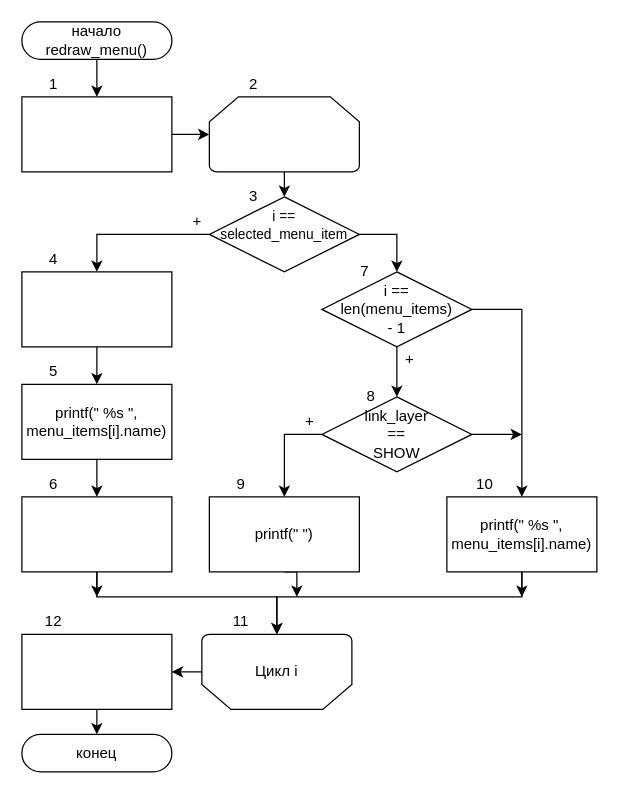
Image size: 619x794. Some labels were removed from this diagram. Here are the shapes that lost their labels. From the top down, the centre of each, then its label:
the point at 96,134: setCursorPosition(0, 0); SetConsoleTextAttribute (stdout_handle, BCKG_BLUE)
the point at 283,134: Цикл i Пока i < len(menu_items) i++
the point at 96,309: SetConsoleTextAttribute (stdout_handle, BCKG_GREEN)
the point at 96,534: SetConsoleTextAttribute (stdout_handle, BCKG_BLUE)
the point at 96,671: SetConsoleTextAttribute (stdout_handle, buffer_info.wAttributes)
